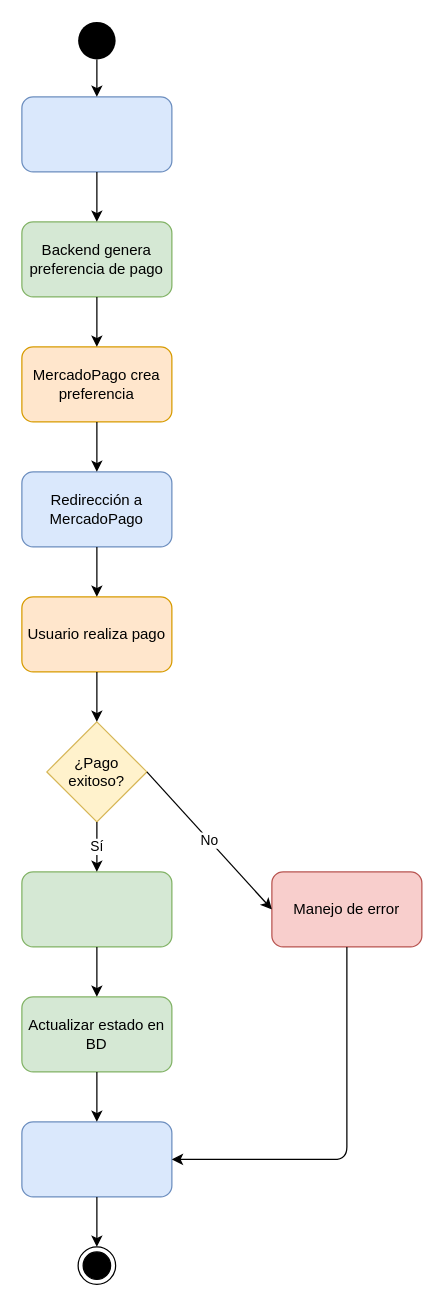
Image size: 444x1306. Some labels were removed from this diagram. Each missing label, with the box of its shape:
Notificar al usuario: (21, 1121, 172, 1197)
Procesar webhook: (21, 871, 172, 947)
Usuario inicia checkout: (21, 96, 172, 172)
